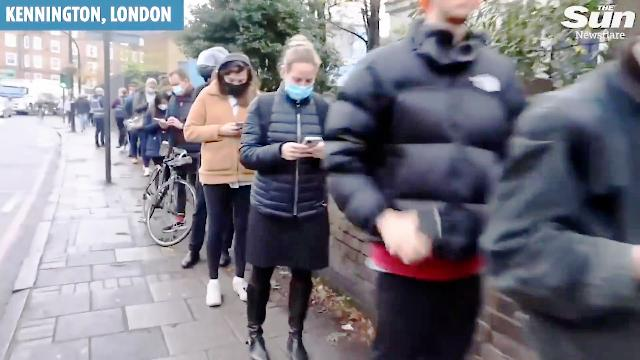berdiri: (236, 32, 344, 360), (186, 44, 264, 312)
